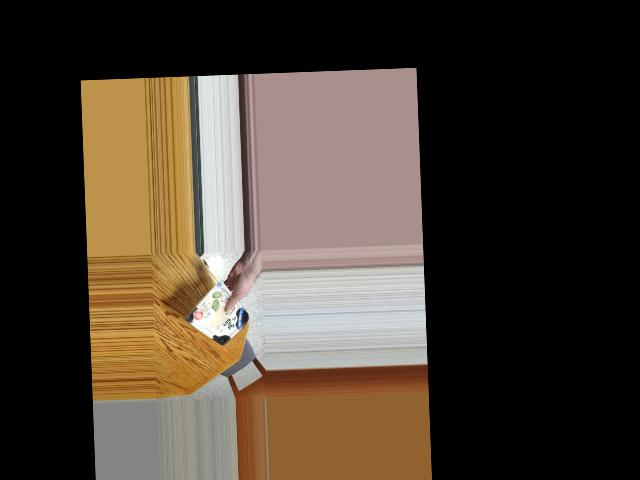cheese: (192, 290, 249, 340)
